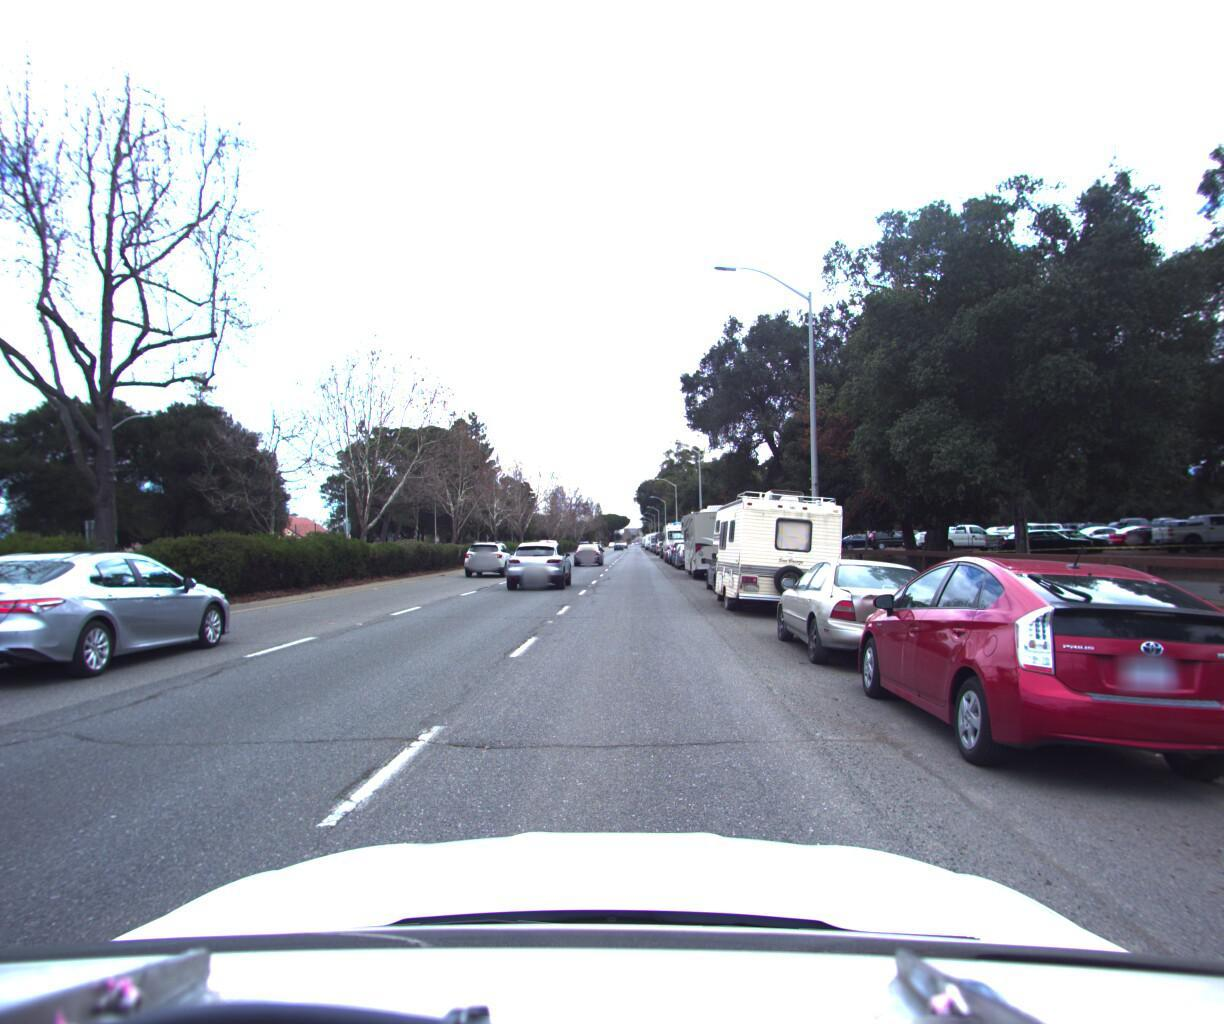car: (839, 540, 1224, 814), (769, 544, 976, 684), (499, 536, 579, 588), (701, 538, 772, 592), (456, 535, 522, 581), (672, 535, 707, 564), (570, 541, 603, 565)
other_vehicle: (705, 475, 852, 622), (676, 493, 757, 576), (659, 513, 696, 553)
